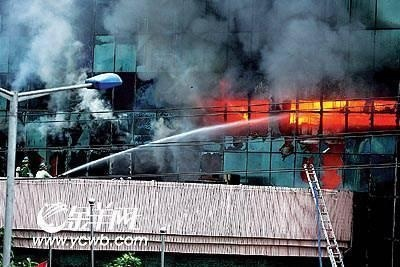fire: (288, 96, 335, 122)
